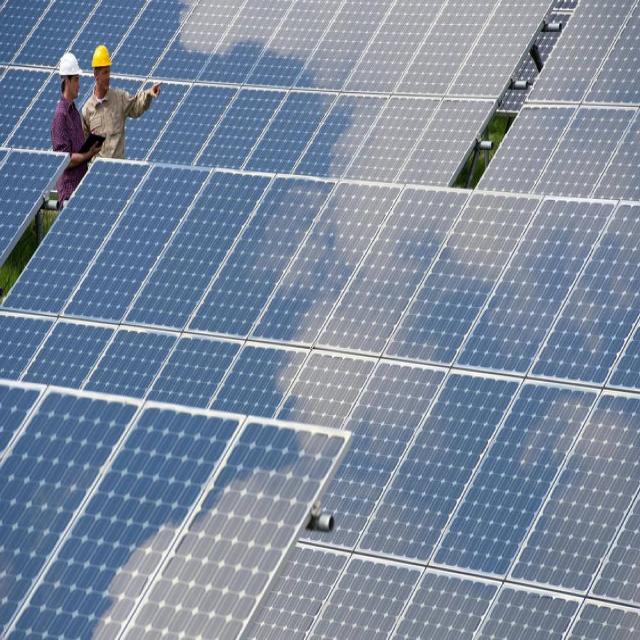dust-solar-panel: (1, 0, 640, 637)
